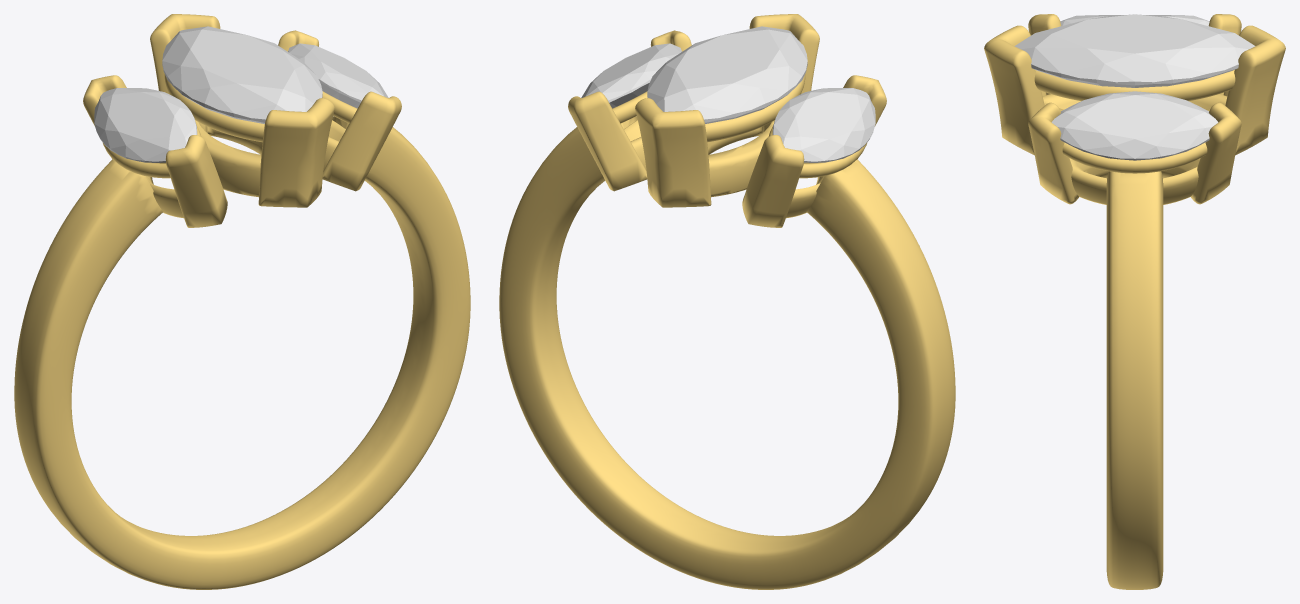
The model's file is diamond-marquise-yellowgold-protectededges2prongs-straightband-3stone.glb.
3 renders of one model, left to right at view 1: azimuth 30°, elevation 25°; view 2: azimuth 150°, elevation 25°; view 3: azimuth 270°, elevation 25°, orthographic. The views are drawn at different scales.
Parts seen in each view (by area): view 1: metal, stone, side.001, side; view 2: metal, stone, side.001, side; view 3: metal, stone, side, side.001.
Part boxes in pixels (left/top/right/bottom): metal: left=14, top=14, right=470, bottom=589; stone: left=162, top=26, right=322, bottom=123; side.001: left=94, top=88, right=197, bottom=162; side: left=288, top=43, right=388, bottom=108; metal: left=499, top=14, right=955, bottom=589; stone: left=647, top=26, right=807, bottom=123; side.001: left=772, top=88, right=875, bottom=162; side: left=581, top=43, right=681, bottom=108; metal: left=984, top=14, right=1285, bottom=589; stone: left=1014, top=14, right=1255, bottom=87; side: left=1051, top=91, right=1218, bottom=160; side.001: left=1060, top=15, right=1209, bottom=26.
Bounding box in the file's own units: 20.11 × 22.73 × 11.69.
